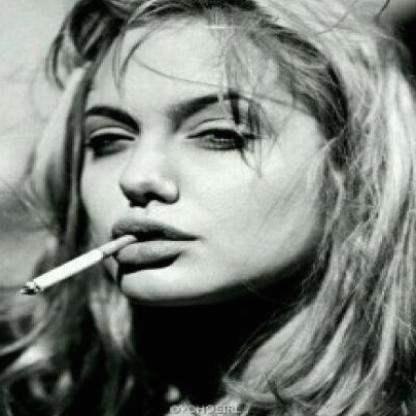cigarette: (18, 233, 137, 299)
person: (68, 0, 410, 415)
